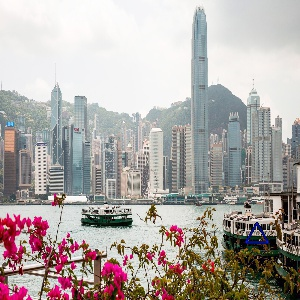triangle: (242, 219, 270, 247)
